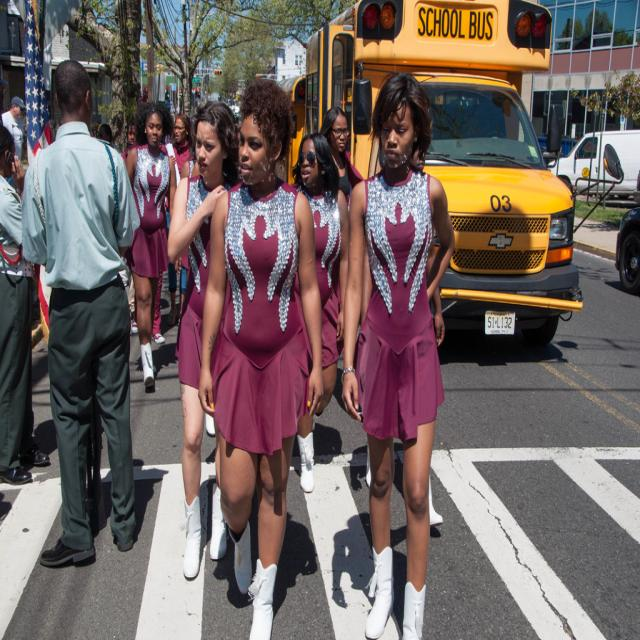Heavy Duty Truck: (294, 1, 592, 369), (547, 131, 640, 208)
Pedestrians: (203, 77, 325, 640), (337, 71, 458, 638), (20, 64, 139, 571), (166, 100, 247, 584), (126, 88, 174, 394), (298, 132, 334, 494)
